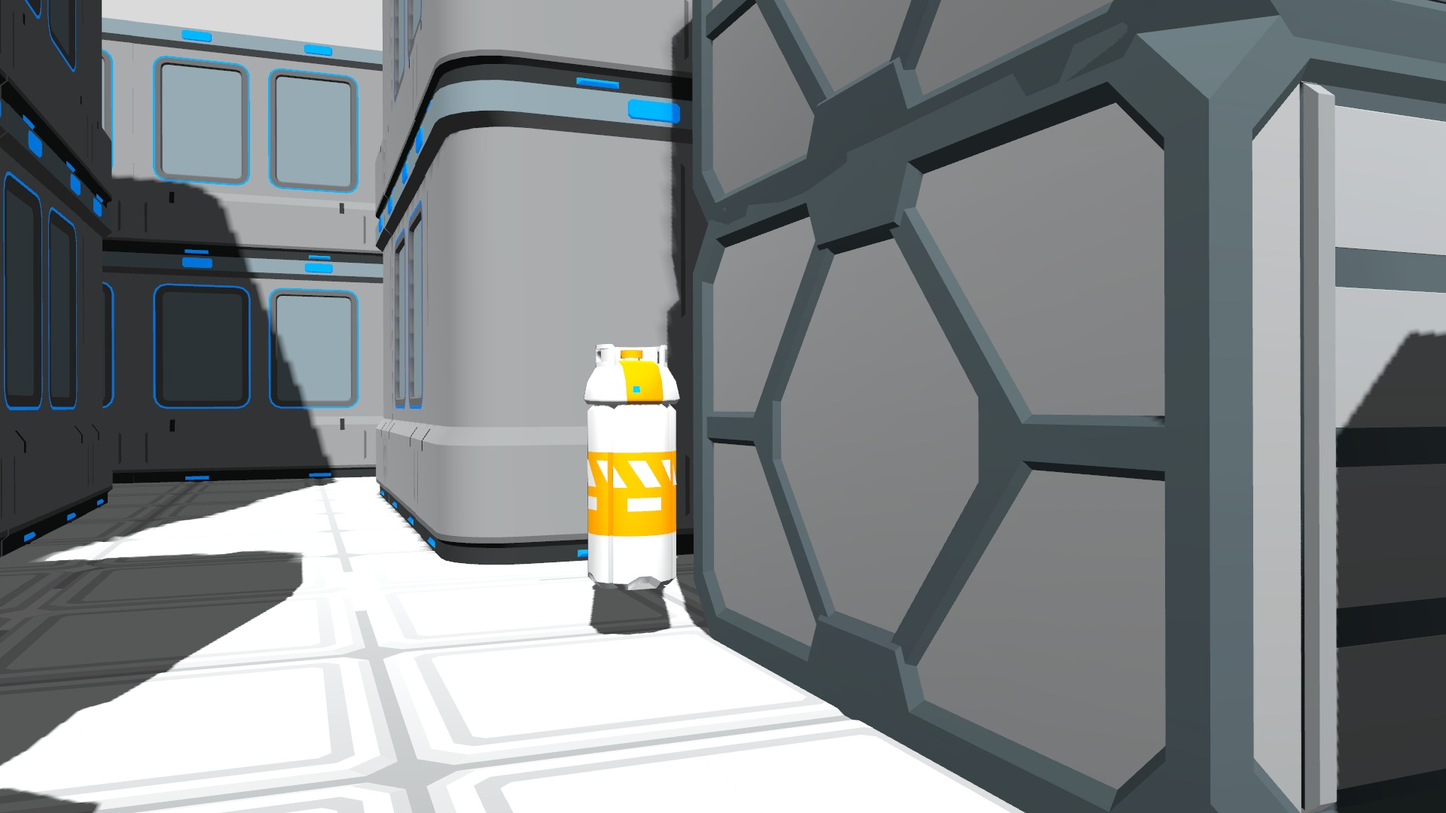yellow_barrel: (578, 338, 683, 603)
